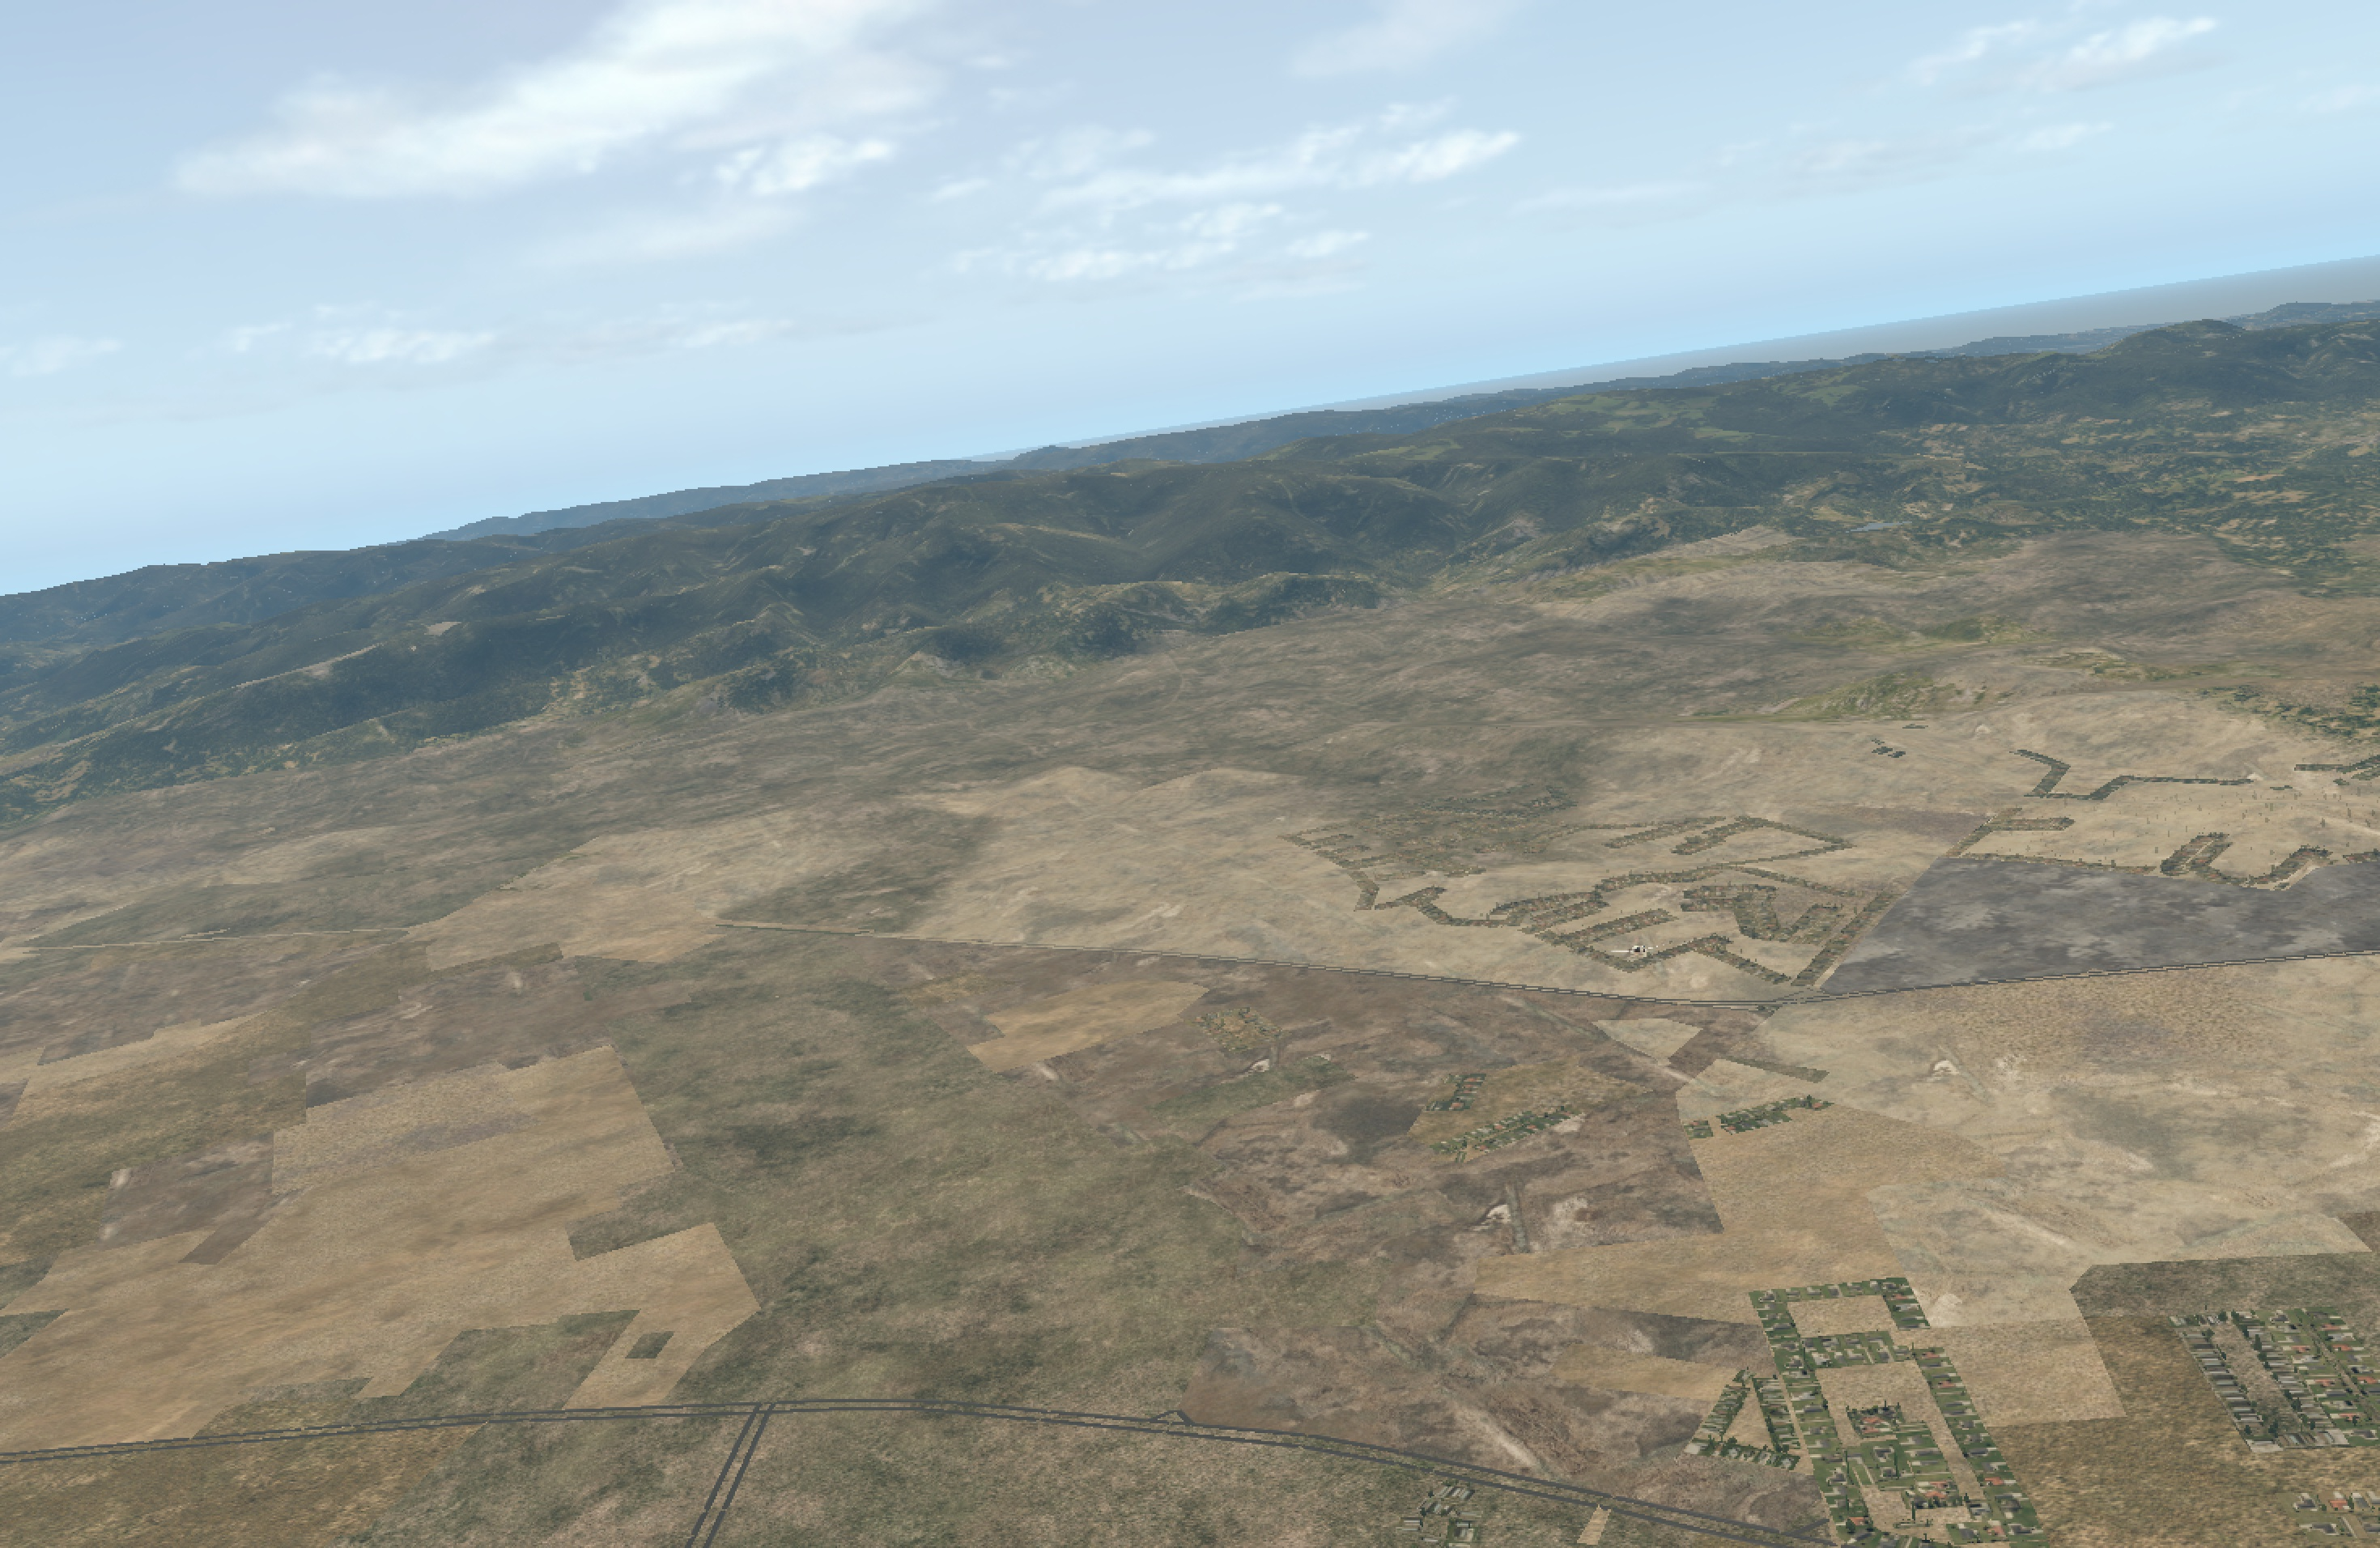aircraft: (1610, 941, 1664, 961)
